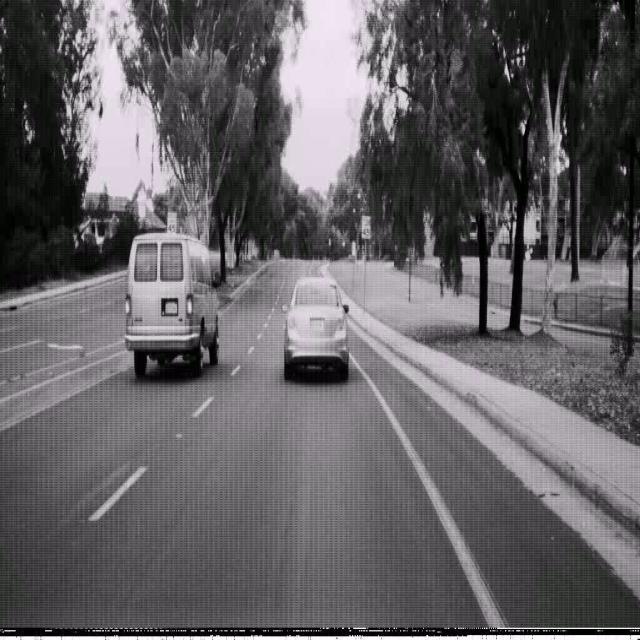speedLimit45: (361, 215, 372, 240)
